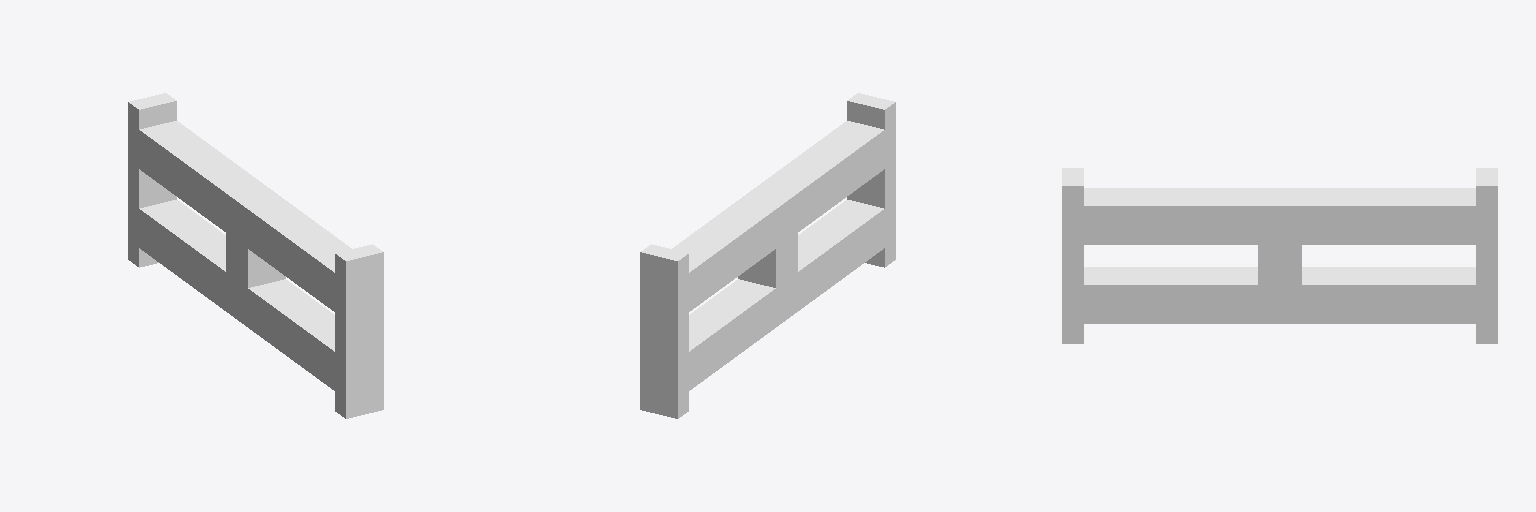
Rendered from wall.obj.
The picture shows the model from 3 angles: view 1: azimuth 30°, elevation 25°; view 2: azimuth 150°, elevation 25°; view 3: azimuth 270°, elevation 25°; orthographic projection.
Parts seen in each view (by area): view 1: object 1; view 2: object 1; view 3: object 1.
Boxes of the visible parts, x1=… form: object 1: x1=128, y1=93, x2=383, y2=418; object 1: x1=640, y1=93, x2=895, y2=418; object 1: x1=1062, y1=168, x2=1497, y2=343.
Size of the model in its own units: 0.2 by 0.8 by 2.